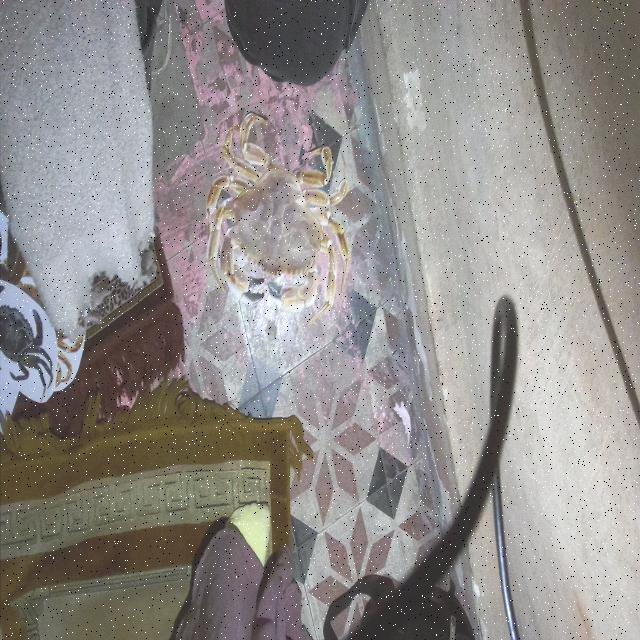European_Green_Crab: (0, 298, 51, 395)
